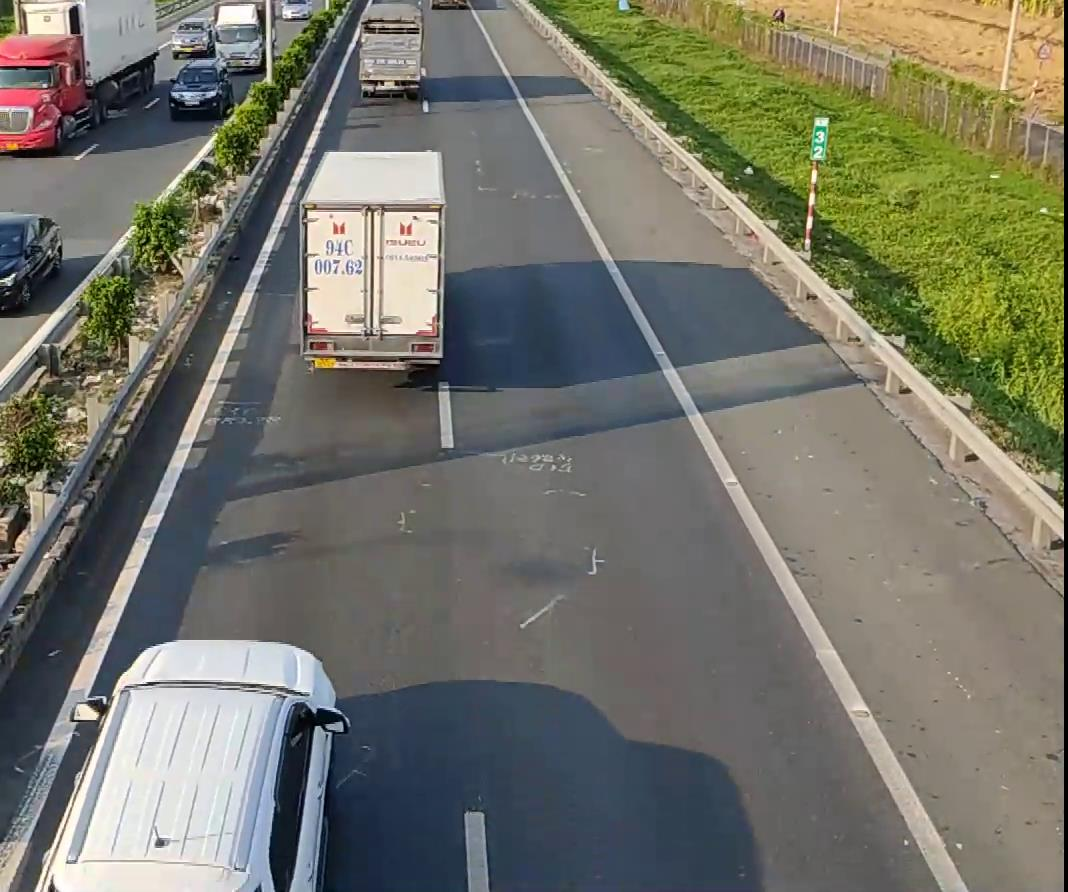car: (43, 638, 345, 888), (0, 208, 64, 314)
container: (0, 0, 162, 152)
truck: (297, 147, 445, 378), (354, 0, 427, 98), (211, 0, 275, 73)
